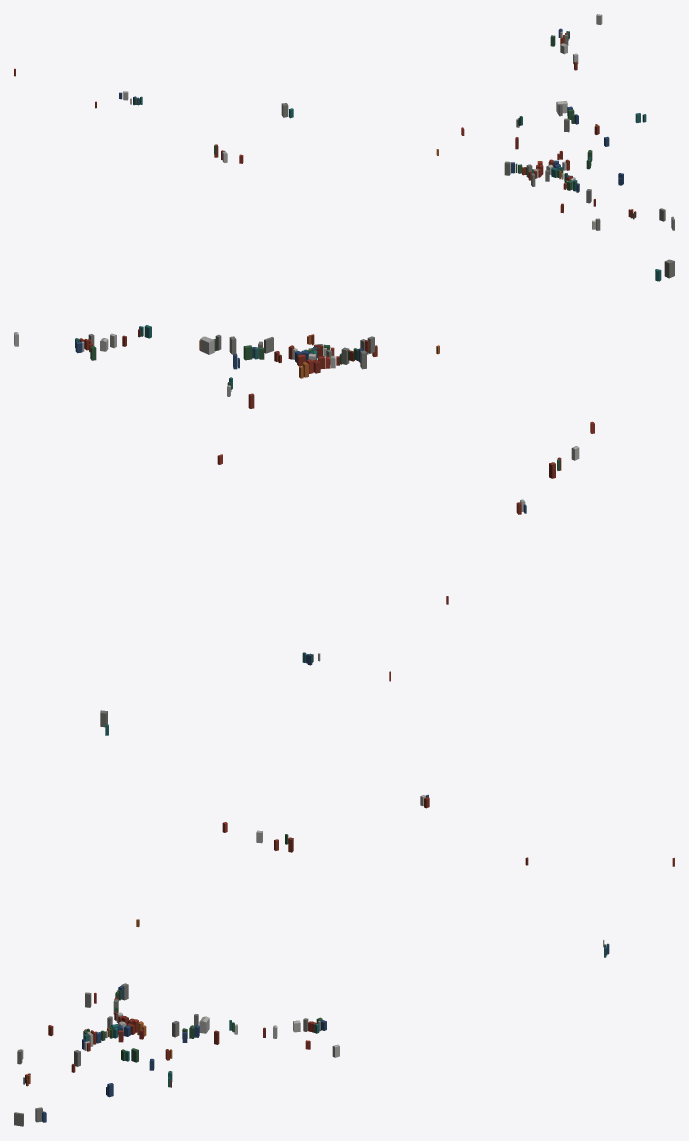
The model's file is near-15-27371-14868.8fa2d701.glb.
The picture shows the model from 3 angles, top to bottom: view 1: azimuth 30°, elevation 25°; view 2: azimuth 150°, elevation 25°; view 3: azimuth 270°, elevation 25°; orthographic projection. The views are drawn at different scales.
Bounding box in the file's own units: 1042 × 412 × 1156.
